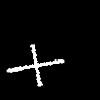single_crochet: (7, 45, 63, 85)
